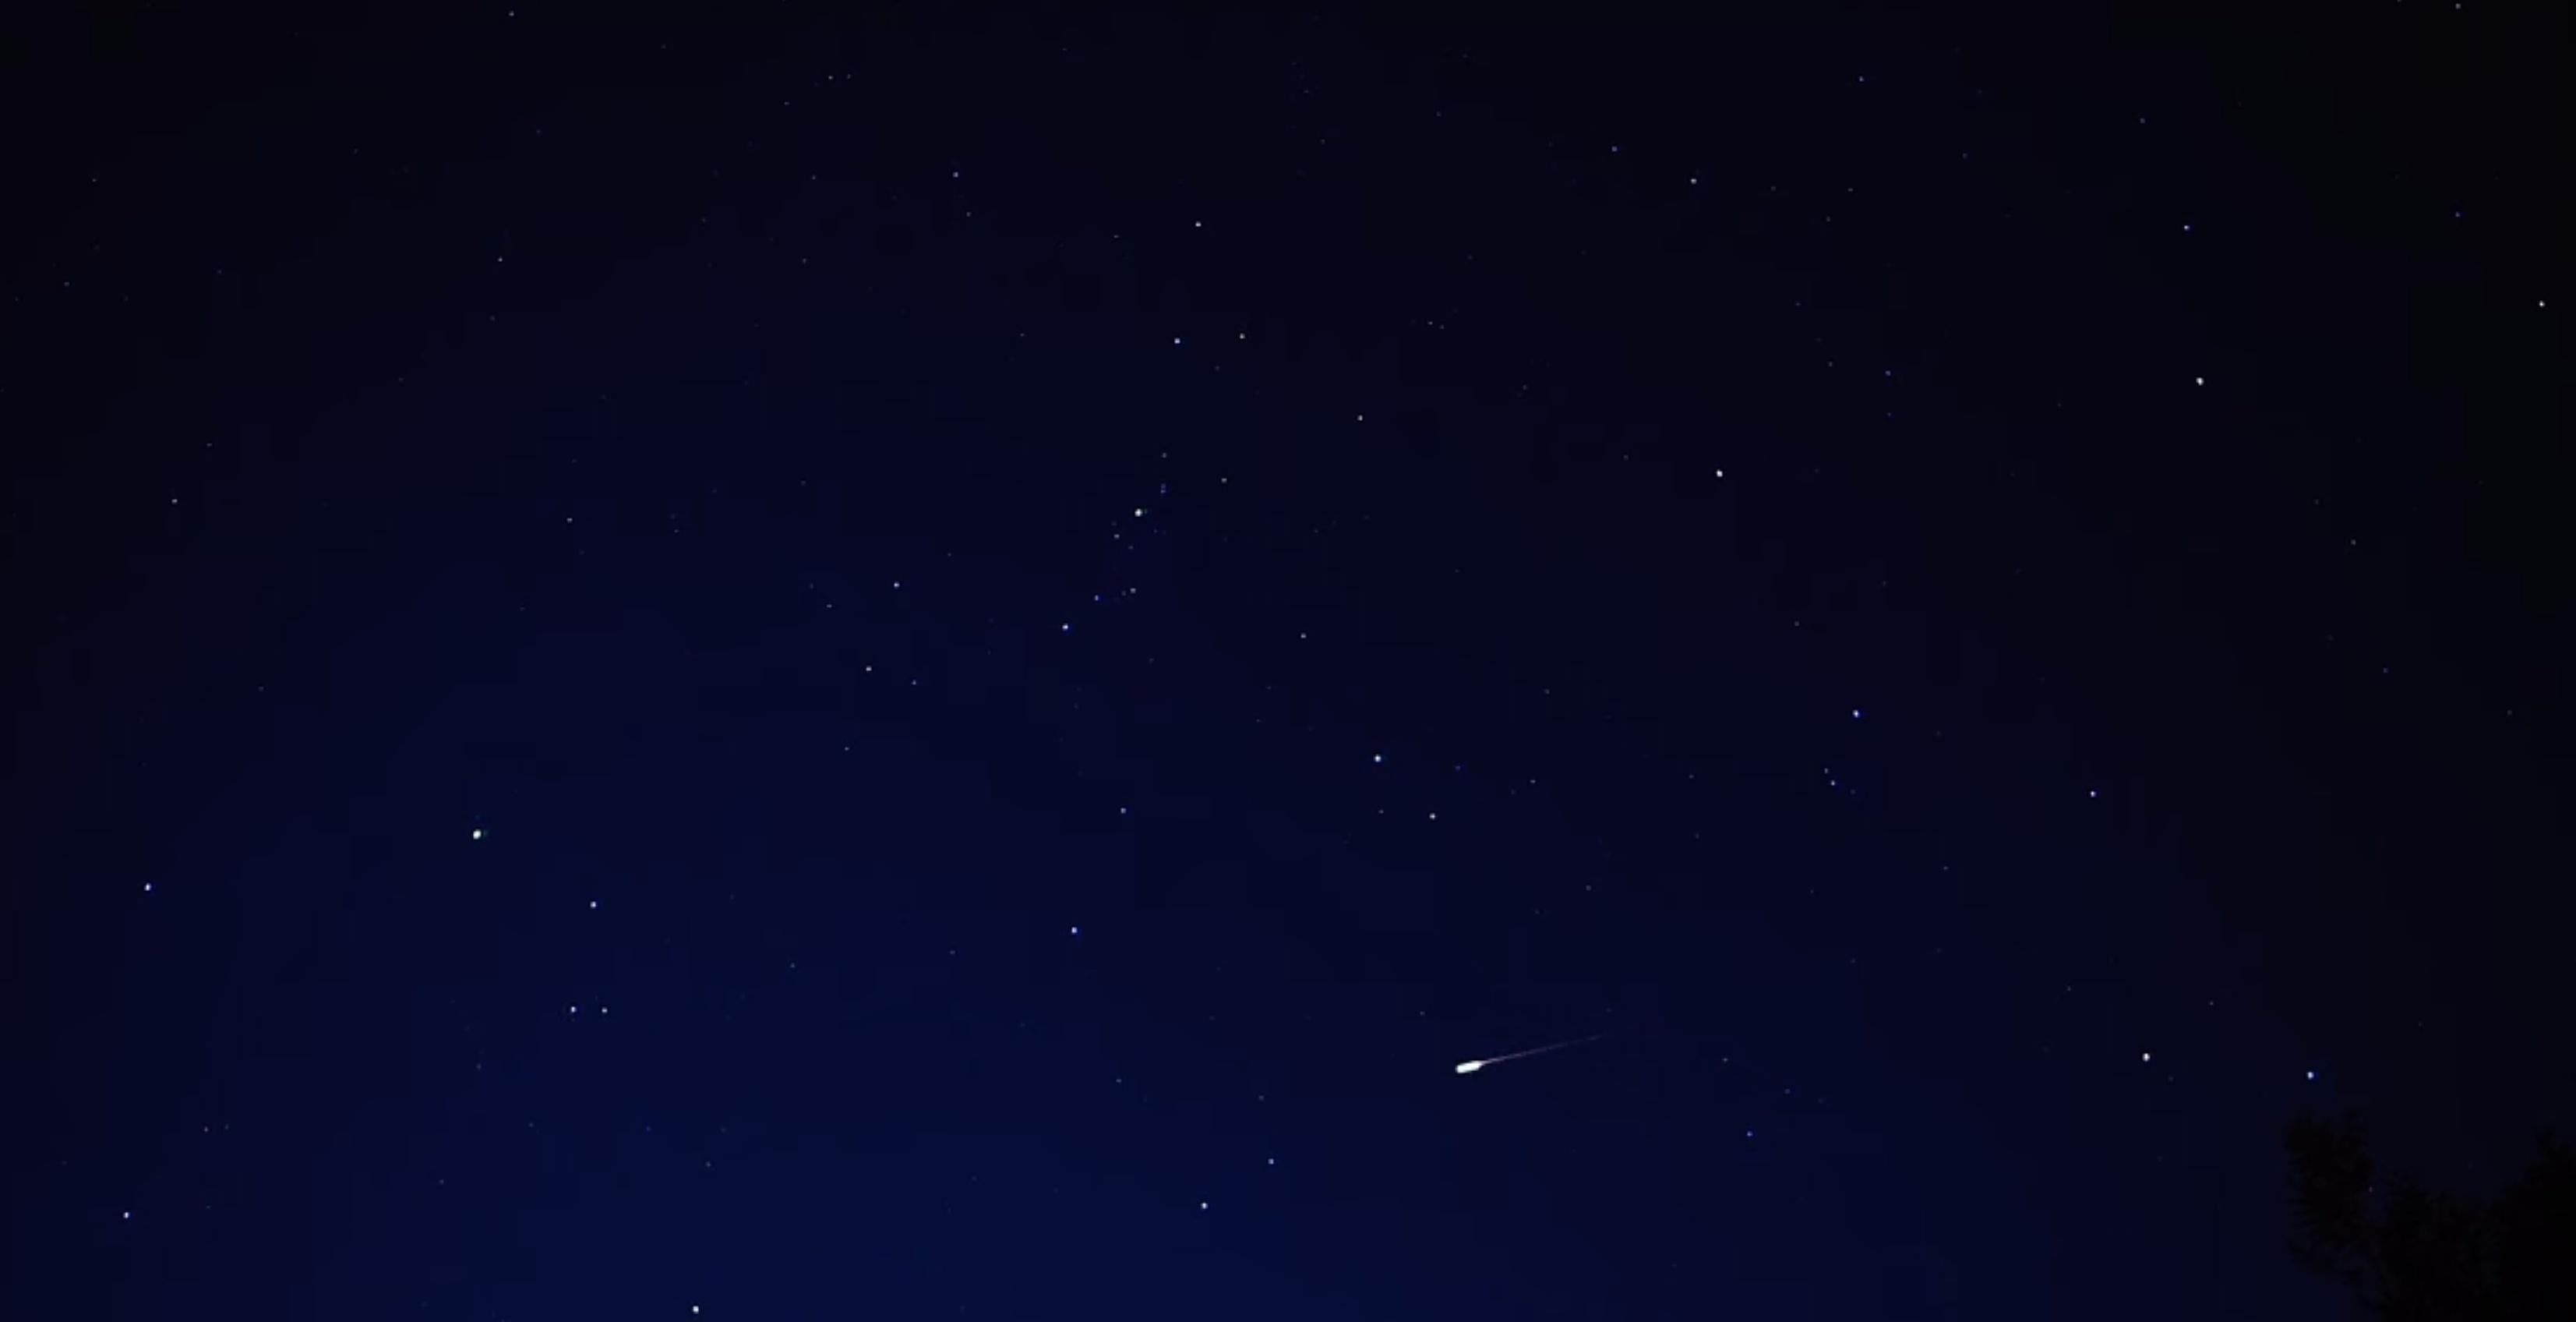meteorite: (1400, 1013, 1671, 1089)
